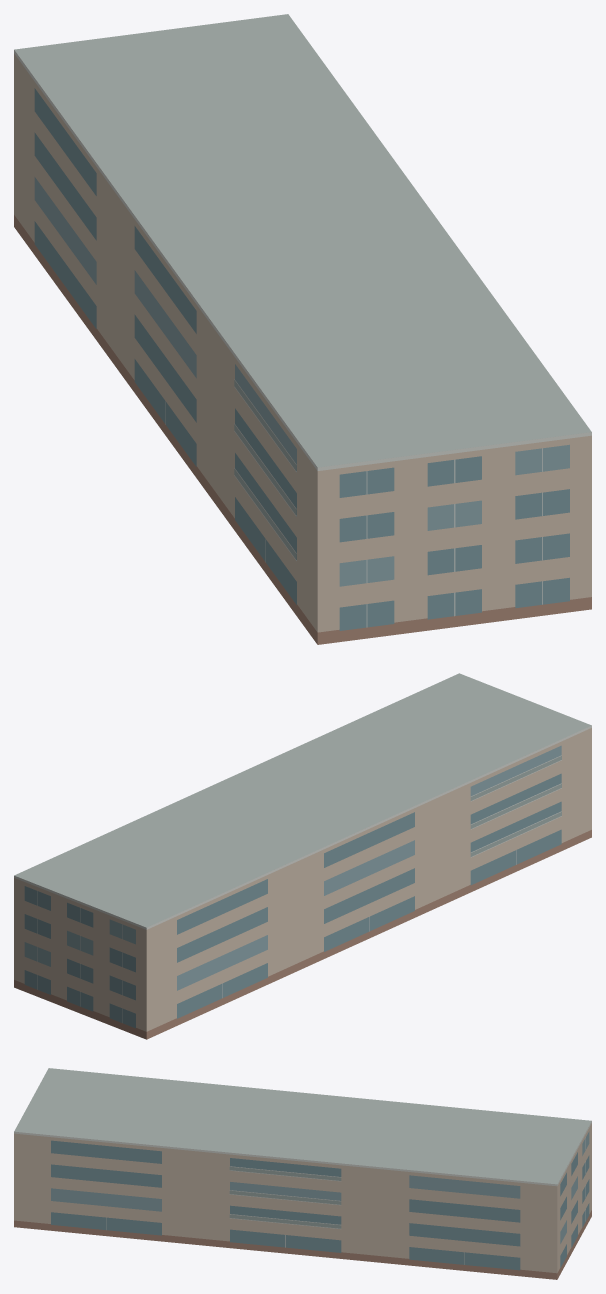
The model's file is residential-ed4bae7b-d2d9-420d-a3fb-199146fe6d75.glb.
The picture shows the model from 3 angles, top to bottom: view 1: azimuth 30°, elevation 25°; view 2: azimuth 150°, elevation 25°; view 3: azimuth 270°, elevation 25°; orthographic projection. The views are drawn at different scales.
Visible parts, largest first — view 1: residential-ed4bae7b-d2d9-420d-a3fb-199146fe6d75.tmp; view 2: residential-ed4bae7b-d2d9-420d-a3fb-199146fe6d75.tmp; view 3: residential-ed4bae7b-d2d9-420d-a3fb-199146fe6d75.tmp.
Boxes of the visible parts, <box> form: residential-ed4bae7b-d2d9-420d-a3fb-199146fe6d75.tmp: <box>14,14,591,644</box>; residential-ed4bae7b-d2d9-420d-a3fb-199146fe6d75.tmp: <box>14,673,591,1039</box>; residential-ed4bae7b-d2d9-420d-a3fb-199146fe6d75.tmp: <box>14,1068,591,1279</box>.
Size of the model in its own units: 31.89 by 12.2 by 66.91.
